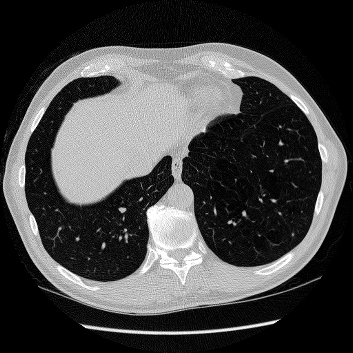nodule: (118, 206, 126, 214)
